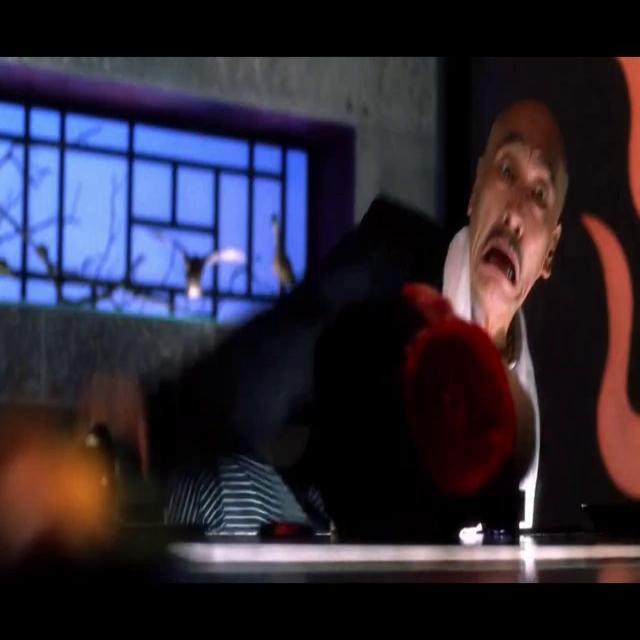flood: (390, 284, 534, 526)
